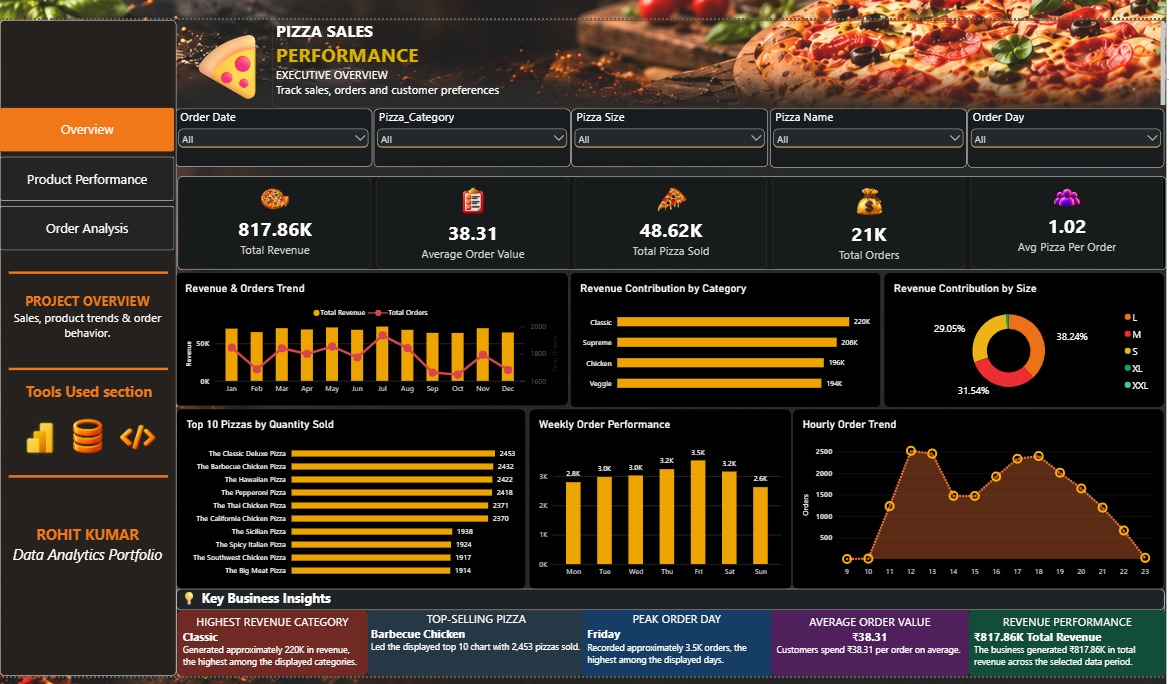

What the dashboard file says about the page in this screenshot:
{"tool":"powerbi","page":{"name":"Overview","canvas":[1920,1080],"ordinal":0},"visuals":[{"type":"cardVisual","fields":{"Data":["Sum(public pizza_data.total_price)","public pizza_data.Average Order Value","CountNonNull(public pizza_data.quantity)","public pizza_data.Total Orders","public pizza_data.Avg Pizza Per Order"]},"box":[292,258,1628.1,154.4],"z":0},{"type":"textbox","box":[448.7,0,1471.7,144.1],"z":1000},{"type":"lineStackedColumnComboChart","title":"Revenue & Orders Trend ","fields":{"Category":["public pizza_data.Month Name"],"Y":["Sum(public pizza_data.total_price)"],"Y2":["public pizza_data.Total Orders"]},"box":[288.2,415.8,648.4,220.2],"z":2000},{"type":"clusteredBarChart","title":"Revenue Contribution by Category","fields":{"Category":["public pizza_data.pizza_category"],"Y":["Sum(public pizza_data.total_price)"]},"box":[939,415,512,222],"z":3000},{"type":"donutChart","title":"Revenue Contribution by Size","fields":{"Category":["public pizza_data.pizza_size"],"Y":["Sum(public pizza_data.quantity)"]},"box":[1455.2,415,462,222],"z":4000},{"type":"clusteredBarChart","title":"Top 10 Pizzas by Quantity Sold","fields":{"Category":["public pizza_data.pizza_name"],"Y":["Sum(public pizza_data.quantity)"]},"box":[290,640,576,297.5],"z":5000},{"type":"columnChart","title":"Weekly Order Performance","fields":{"Category":["public pizza_data.Order Day"],"Y":["public pizza_data.Total Orders"]},"box":[870,640,433,297.5],"z":6000},{"type":"lineChart","title":"Hourly Order Trend","fields":{"Category":["public pizza_data.Order Hour"],"Y":["public pizza_data.Total Orders"]},"box":[1305,640,612,297.5],"z":7000},{"type":"slicer","fields":{"Values":["public pizza_data.Order Day"]},"box":[1593.8,146,324,96.7],"z":8000},{"type":"slicer","fields":{"Values":["public pizza_data.pizza_name"]},"box":[1268,146,324,96.7],"z":9000},{"type":"slicer","fields":{"Values":["public pizza_data.pizza_size"]},"box":[941,146.2,324,96],"z":10000},{"type":"slicer","fields":{"Values":["public pizza_data.pizza_category"]},"box":[615.4,146.2,324,96],"z":11000},{"type":"slicer","title":"Order Date","fields":{"Values":["public pizza_data.order_date"]},"box":[289,146.7,324.4,95.6],"z":12000},{"type":"textbox","box":[290.2,0,158.5,146.1],"z":13000},{"type":"textbox","box":[290,938,1628,142],"z":14000},{"type":"textbox","box":[290,937.5,1627.5,35],"z":15000},{"type":"textbox","box":[292.3,971.5,312.9,109.1],"z":16000},{"type":"textbox","box":[605.1,971.5,354,109.1],"z":17000},{"type":"textbox","box":[959.2,971.5,310.8,109.1],"z":18000},{"type":"textbox","box":[1270,971.5,325.2,109.1],"z":19000},{"type":"textbox","box":[1595.2,971.5,325,109.1],"z":20000},{"type":"textbox","box":[0,0,290,1080],"z":21000},{"type":"pageNavigator","box":[0,144,287.5,237.5],"z":22000},{"type":"textbox","box":[0,412,288,148],"z":23000},{"type":"shape","box":[15,327.5,262.5,177.5],"z":24000},{"type":"shape","box":[15,485,262.5,177.5],"z":25000},{"type":"textbox","box":[0,595,292.5,162.5],"z":26000},{"type":"image","box":[32,640,66,94],"z":27000},{"type":"image","box":[112,638,66,94],"z":28000},{"type":"image","box":[194,640,66,94],"z":29000},{"type":"shape","box":[14.4,662.8,262.5,177.5],"z":30000},{"type":"textbox","box":[0,757.5,288.2,323.2],"z":31000}]}

Visuals, with their boxes on the page's 1920x1080 design canvas (x1, y1, x2, y2). These are canvas units, not pixel positions in the 1169x684 screenshot, which may show the page scaled, cropped or inside an application window:
cardVisual - Sum(public pizza_data.total_price) x public pizza_data.Average Order Value: (292,258,1920,412)
textbox: (449,0,1920,144)
"Revenue & Orders Trend " lineStackedColumnComboChart: (288,416,937,636)
"Revenue Contribution by Category" clusteredBarChart: (939,415,1451,637)
"Revenue Contribution by Size" donutChart: (1455,415,1917,637)
"Top 10 Pizzas by Quantity Sold" clusteredBarChart: (290,640,866,938)
"Weekly Order Performance" columnChart: (870,640,1303,938)
"Hourly Order Trend" lineChart: (1305,640,1917,938)
slicer - public pizza_data.Order Day: (1594,146,1918,243)
slicer - public pizza_data.pizza_name: (1268,146,1592,243)
slicer - public pizza_data.pizza_size: (941,146,1265,242)
slicer - public pizza_data.pizza_category: (615,146,939,242)
"Order Date" slicer: (289,147,613,242)
textbox: (290,0,449,146)
textbox: (290,938,1918,1080)
textbox: (290,938,1918,972)
textbox: (292,972,605,1081)
textbox: (605,972,959,1081)
textbox: (959,972,1270,1081)
textbox: (1270,972,1595,1081)
textbox: (1595,972,1920,1081)
textbox: (0,0,290,1080)
pageNavigator: (0,144,288,382)
textbox: (0,412,288,560)
shape: (15,328,278,505)
shape: (15,485,278,662)
textbox: (0,595,292,758)
image: (32,640,98,734)
image: (112,638,178,732)
image: (194,640,260,734)
shape: (14,663,277,840)
textbox: (0,758,288,1081)
